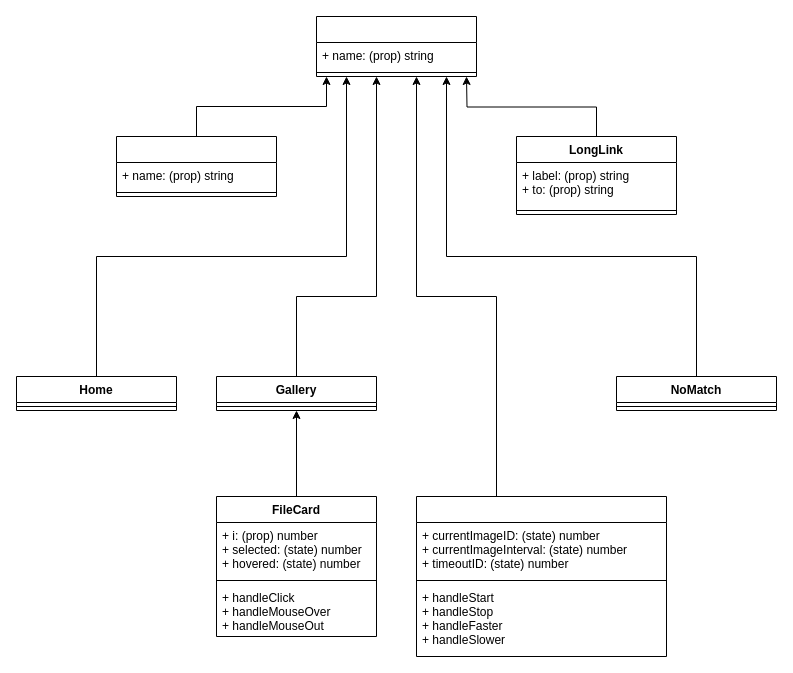
Some shapes in this 793 by 673 pixel diagram are drawn without their labels. Here are the shapes that lost their labels. From the top down, the box of each, then its label:
(316, 16, 476, 76): App
(116, 136, 276, 196): Title
(416, 496, 666, 656): Slideshow
